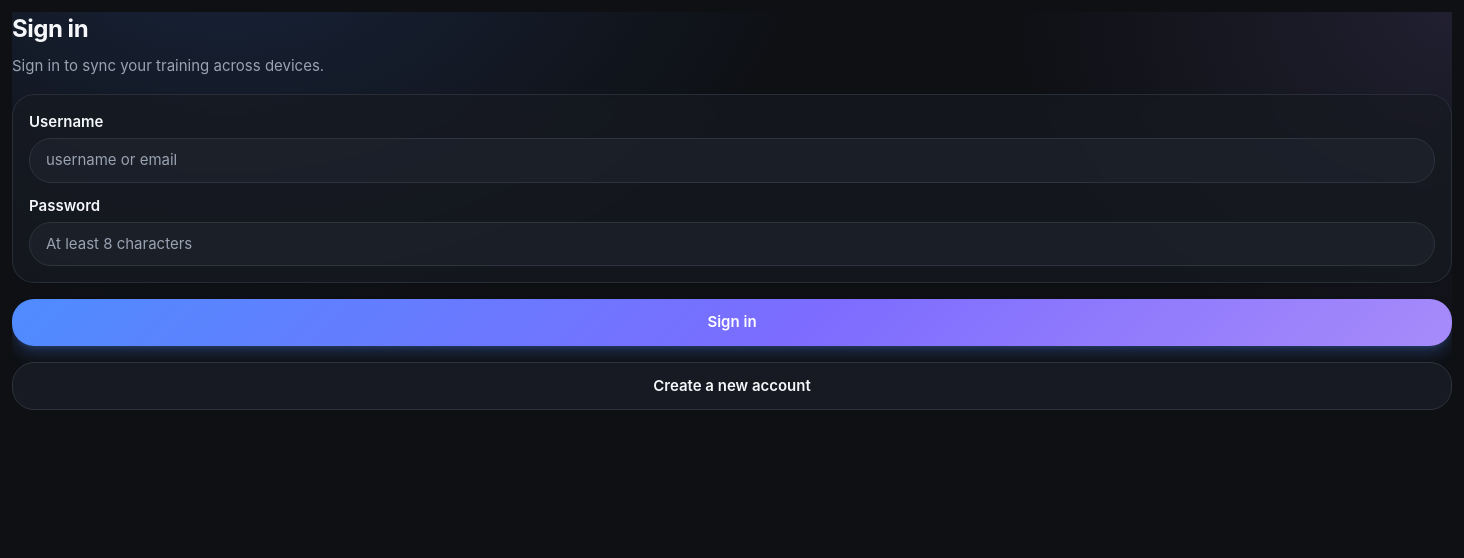
Scenario: AccountSettings (signed out) › offers an explicitly optional email once switched to sign-up
Click the button "Create a new account" at (732, 386), box [12,362,1452,410]
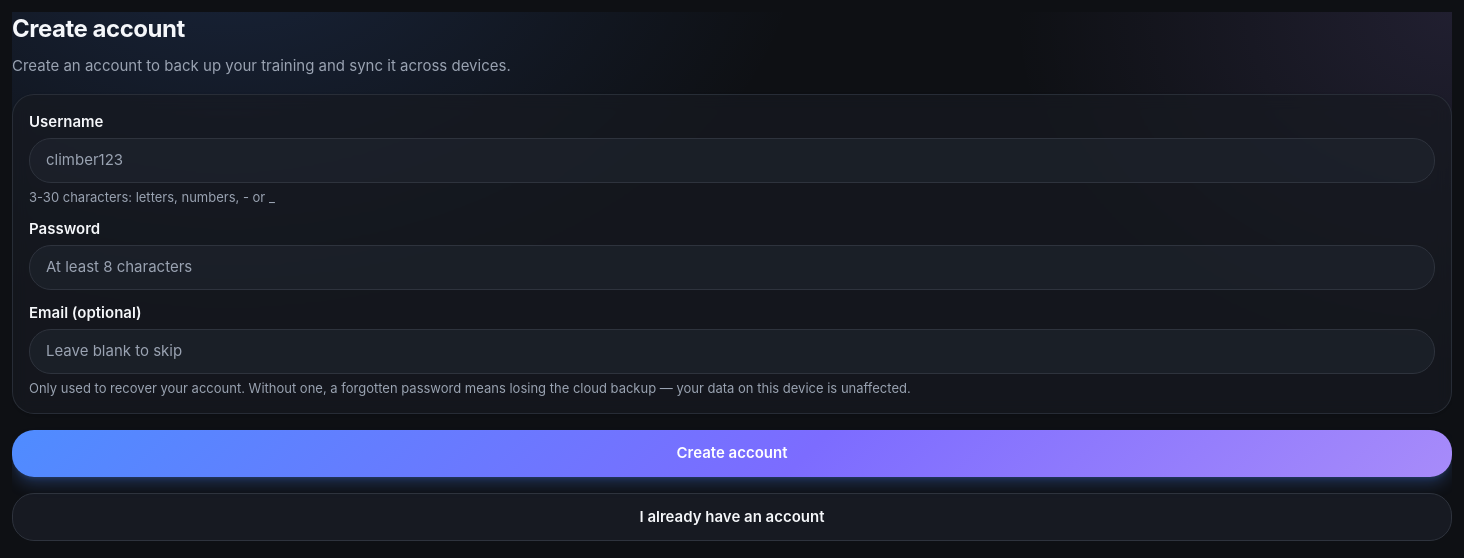
Now the text "Email (optional)" is shown, box [29,303,142,322]
Now the field with placeholder "Leave blank to skip" is shown, box [29,329,1435,374]
